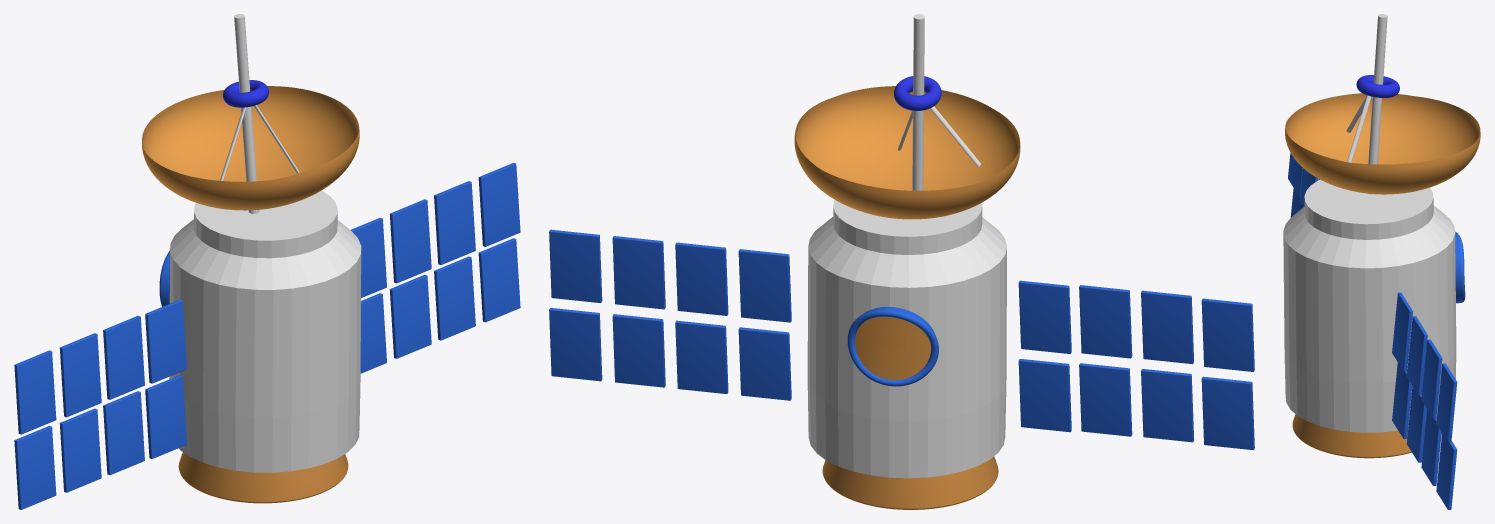
The model's file is satellite.glb.
3 renders of one model, left to right at view 1: azimuth 30°, elevation 25°; view 2: azimuth 150°, elevation 25°; view 3: azimuth 270°, elevation 25°, orthographic. The views are drawn at different scales.
Parts seen in each view (by area): view 1: Cylinder.003, Cube, 立方体_1_2.001, 立方体_1_2, 立方体.001, 立方体, 圆柱_3_3, 立方体_1.001, 立方体_4, 立方体_1, 立方体_3, 立方体_4.001 (+5 smaller); view 2: Cylinder.003, Cube, 立方体, 立方体.001, 立方体_1_2, 立方体_1_2.001, 圆柱_3_3, 圆盘, 立方体_1.001, 立方体_1, 立方体_2, 立方体_4.001 (+7 smaller); view 3: Cylinder.003, Cube, 圆柱_3_3, 立方体, 立方体.001, Cylinder, 立方体_2, 立方体_1, 立方体_2.001, 立方体_1.001, Torus, 立方体_1_2 (+2 smaller).
Part boxes in pixels (x1,y1,x2,y2): Cylinder.003: [169, 190, 361, 472]; Cube: [142, 86, 359, 210]; 立方体_1_2.001: [14, 408, 101, 509]; 立方体_1_2: [14, 333, 101, 434]; 立方体.001: [434, 238, 520, 340]; 立方体: [434, 163, 520, 264]; 圆柱_3_3: [178, 452, 348, 503]; 立方体_1.001: [389, 274, 431, 358]; 立方体_4: [145, 299, 186, 383]; 立方体_1: [389, 199, 431, 283]; 立方体_3: [103, 315, 144, 399]; 立方体_4.001: [145, 375, 186, 458]; Cylinder.003: [807, 200, 1006, 478]; Cube: [794, 86, 1020, 219]; 立方体: [549, 229, 665, 309]; 立方体.001: [549, 308, 665, 387]; 立方体_1_2: [1141, 290, 1254, 371]; 立方体_1_2.001: [1141, 369, 1254, 450]; 圆柱_3_3: [822, 456, 998, 509]; 圆盘: [855, 316, 931, 380]; 立方体_1.001: [675, 320, 728, 393]; 立方体_1: [675, 242, 728, 315]; 立方体_2: [738, 249, 791, 322]; 立方体_4.001: [1018, 359, 1071, 432]; Cylinder.003: [1283, 179, 1456, 432]; Cube: [1285, 93, 1480, 194]; 圆柱_3_3: [1292, 414, 1441, 458]; 立方体: [1421, 339, 1457, 442]; 立方体.001: [1421, 409, 1457, 509]; Cylinder: [1368, 14, 1387, 194]; 立方体_2: [1392, 292, 1412, 371]; 立方体_1: [1406, 316, 1427, 394]; 立方体_2.001: [1392, 362, 1412, 439]; 立方体_1.001: [1407, 386, 1426, 462]; Torus: [1356, 75, 1399, 97]; 立方体_1_2: [1288, 153, 1318, 206].
Bounding box in the file's own units: 1.97 × 1.44 × 0.6368.
